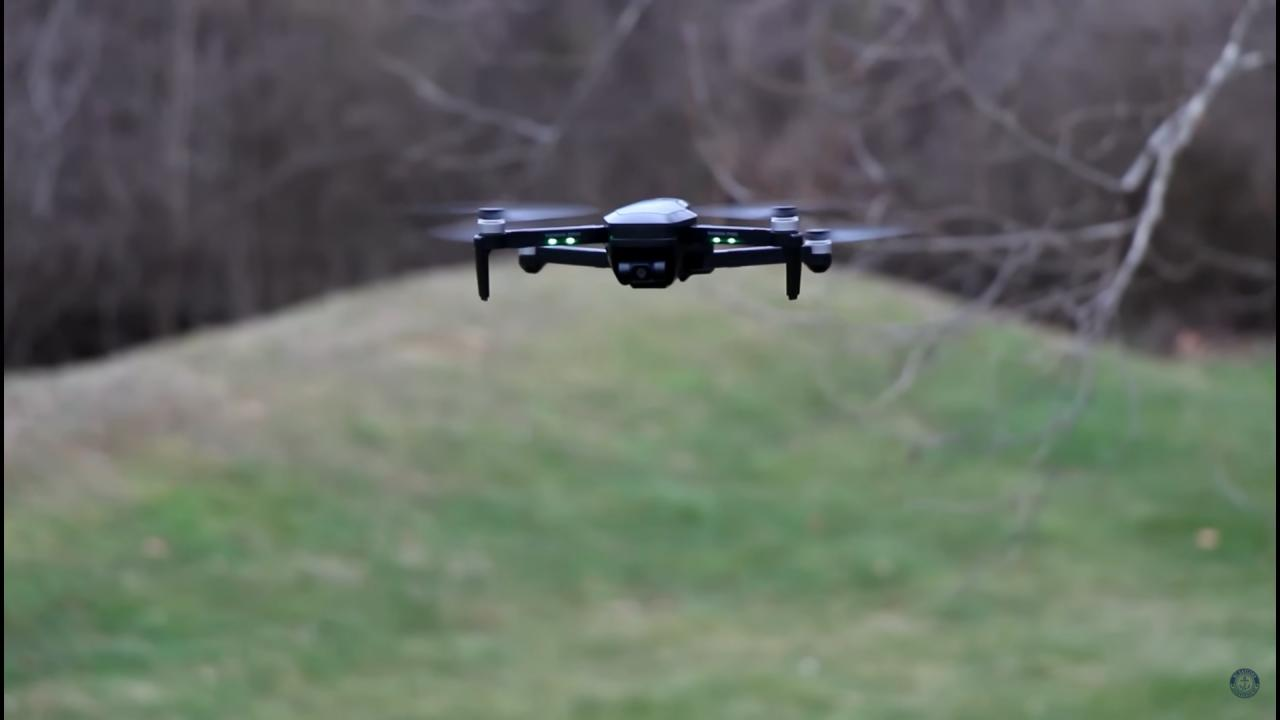Drone: (361, 190, 923, 306)
